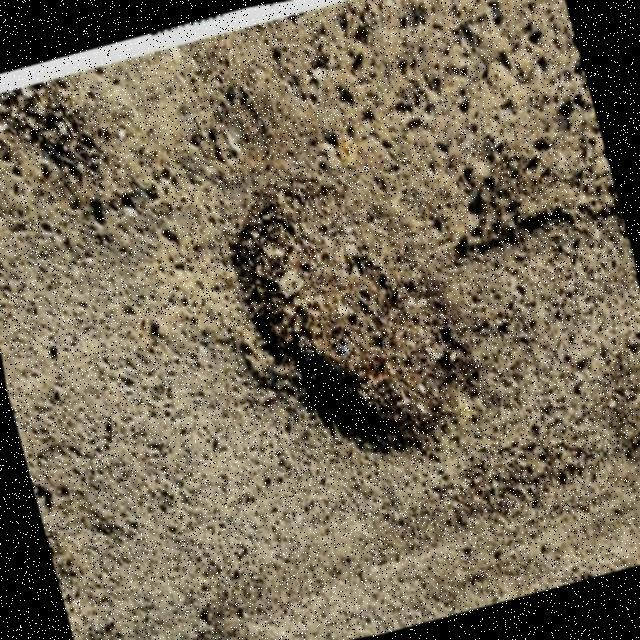Pothole: (225, 181, 447, 445)
